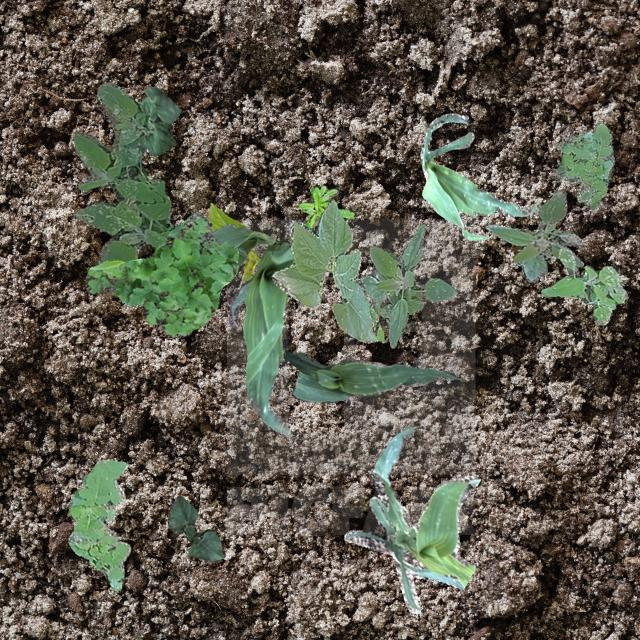crop: (344, 426, 479, 614), (270, 198, 382, 342), (420, 112, 540, 238), (360, 224, 454, 346), (242, 244, 294, 434), (282, 348, 459, 402), (210, 222, 286, 326), (208, 202, 258, 282), (167, 494, 224, 562), (136, 86, 180, 154)
weed: (85, 210, 238, 336), (73, 80, 174, 264), (486, 188, 582, 280), (66, 456, 130, 590), (540, 248, 626, 324), (554, 120, 614, 208), (298, 184, 354, 228)
